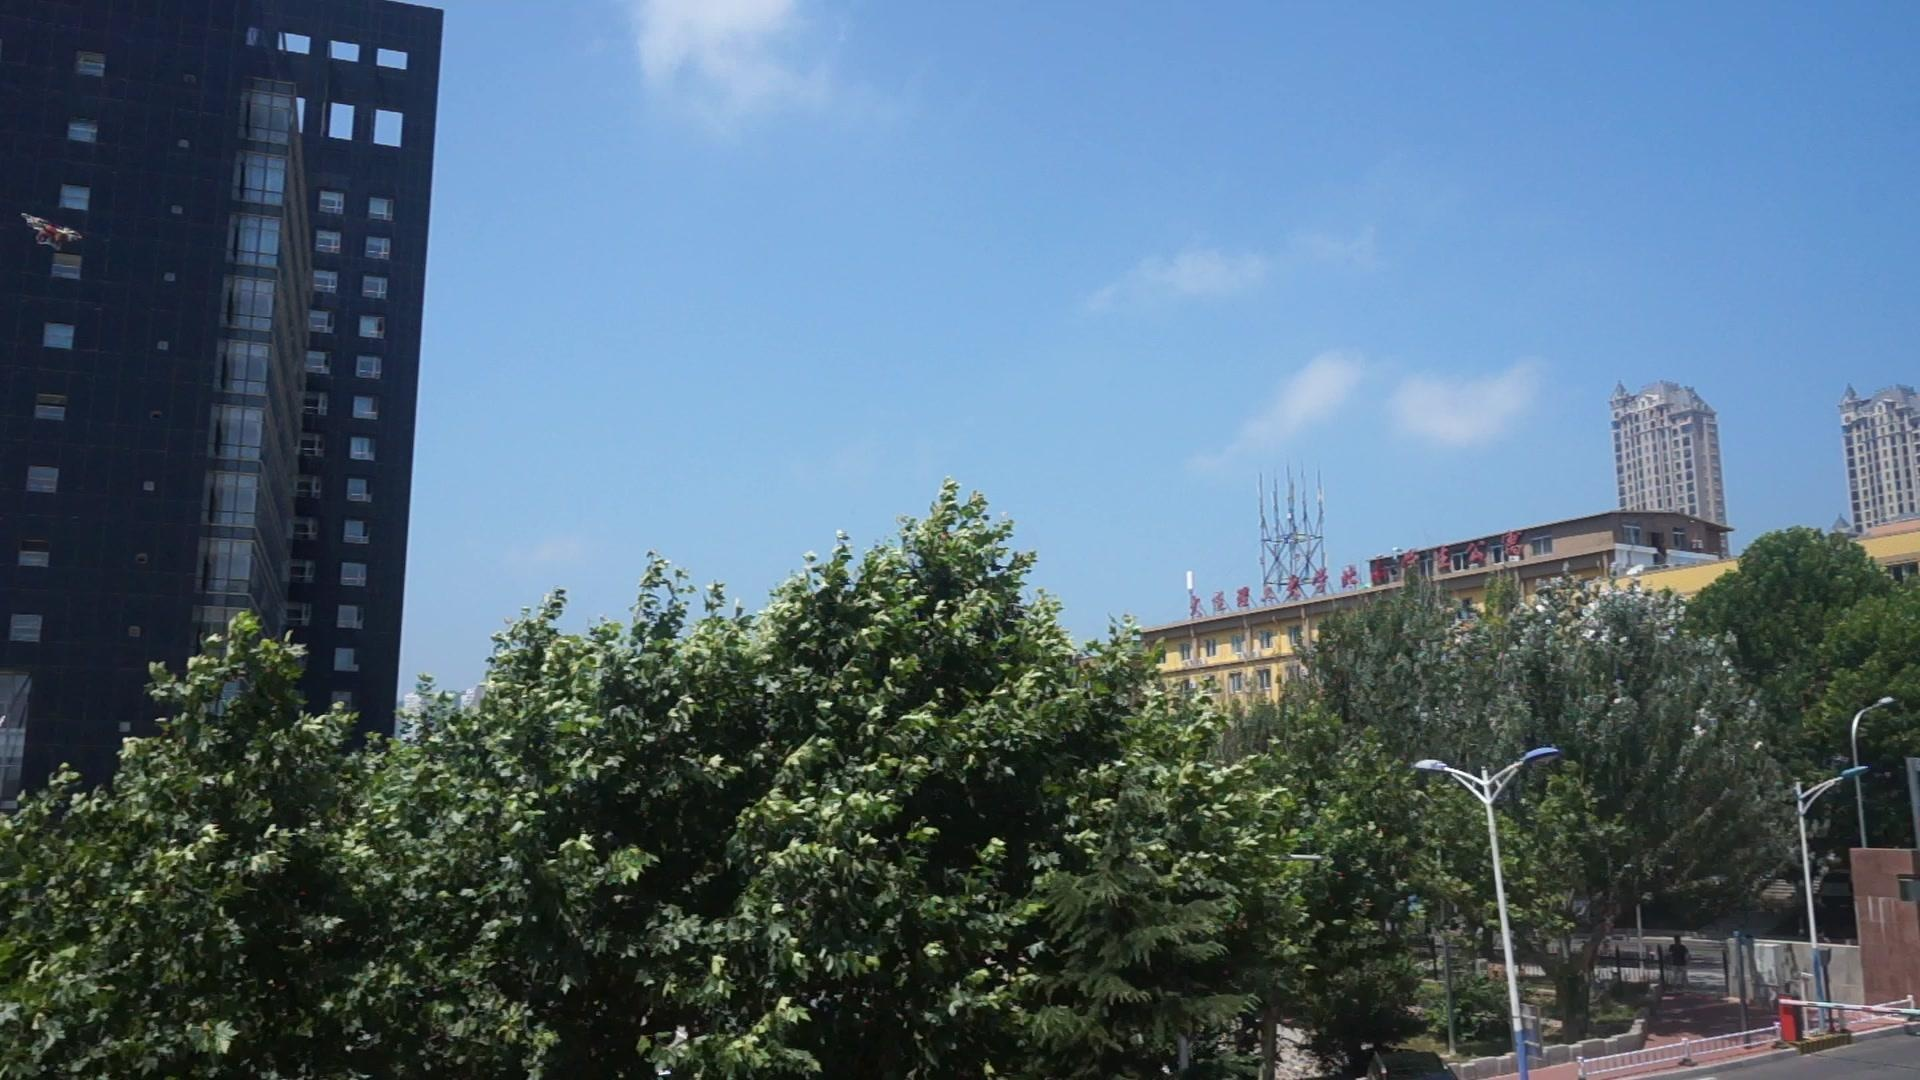UAV: (21, 214, 83, 252)
